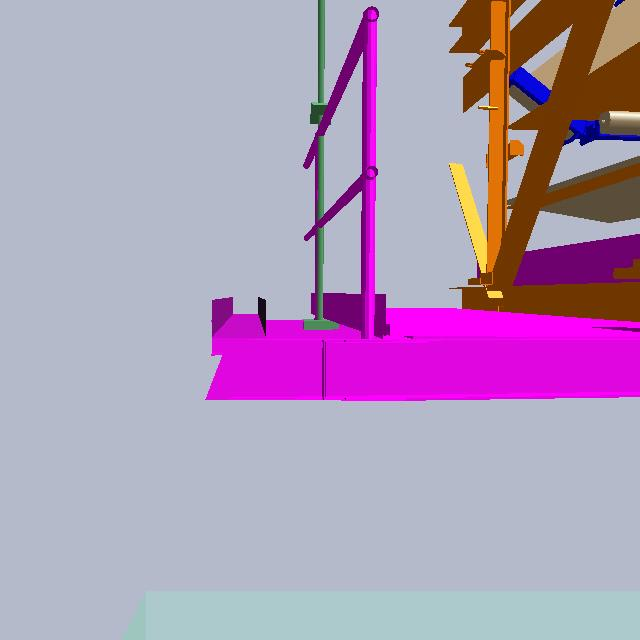Poste: (312, 1, 328, 330)
